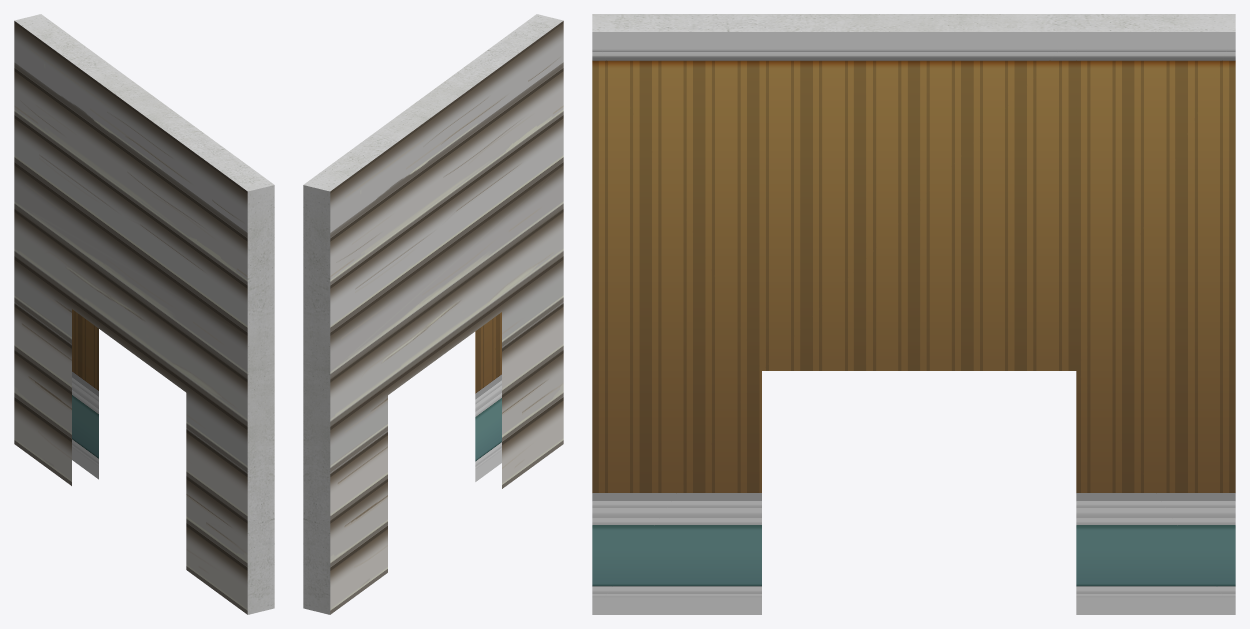
File: wall01_chimney.fbx
The picture shows the model from 3 angles, left to right: view 1: azimuth 30°, elevation 25°; view 2: azimuth 150°, elevation 25°; view 3: azimuth 270°, elevation 25°; orthographic projection. The views are drawn at different scales.
Parts seen in each view (by area): view 1: wall01_chimney; view 2: wall01_chimney; view 3: wall01_chimney.
Boxes of the visible parts, box(x1,y1,x2,y2) form: wall01_chimney: box(14, 14, 274, 614); wall01_chimney: box(303, 14, 563, 614); wall01_chimney: box(592, 14, 1235, 614).
Size of the model in its own units: 20 by 300 by 300.
